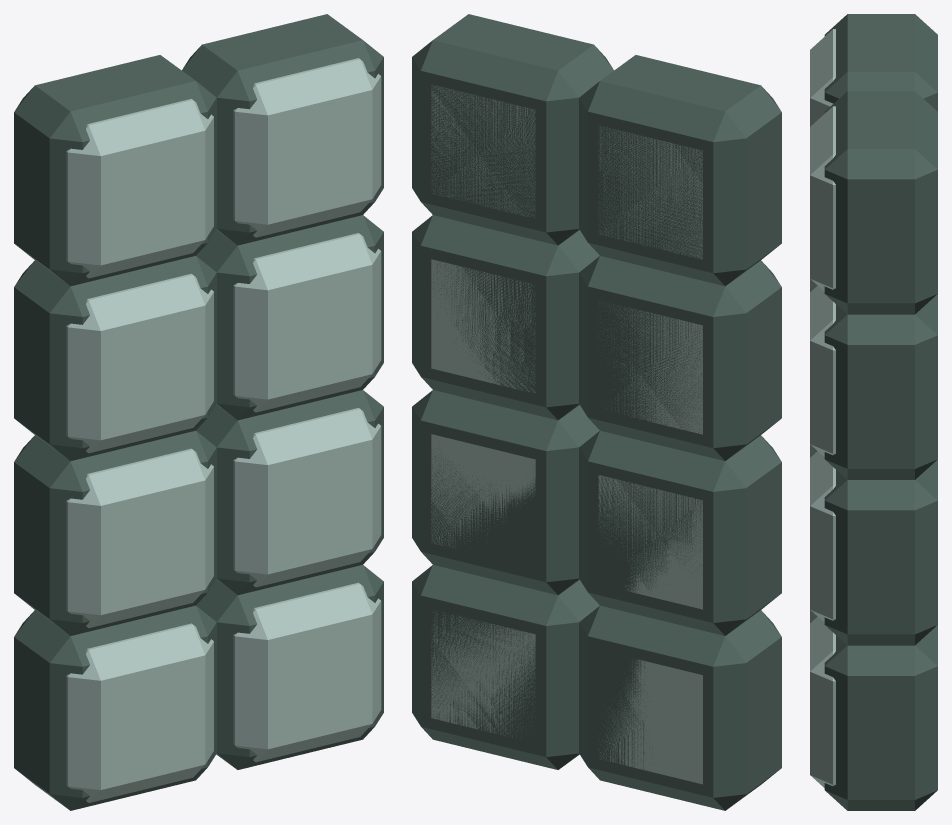
The model's file is Terrain_Block2x4.gltf.
3 views of the same model, side by side, from view 1: azimuth 30°, elevation 25°; view 2: azimuth 150°, elevation 25°; view 3: azimuth 270°, elevation 25° (orthographic). The views are drawn at different scales.
Visible parts, largest first — view 1: Terrain_Block2x4_baked; view 2: Terrain_Block2x4_baked; view 3: Terrain_Block2x4_baked.
Boxes of the visible parts, x1=… form: Terrain_Block2x4_baked: x1=14, y1=14, x2=383, y2=810; Terrain_Block2x4_baked: x1=412, y1=14, x2=781, y2=810; Terrain_Block2x4_baked: x1=810, y1=14, x2=937, y2=810.
Size of the model in its own units: 2 by 4 by 0.7.
